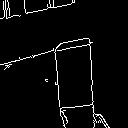cube: (36, 27, 103, 114)
